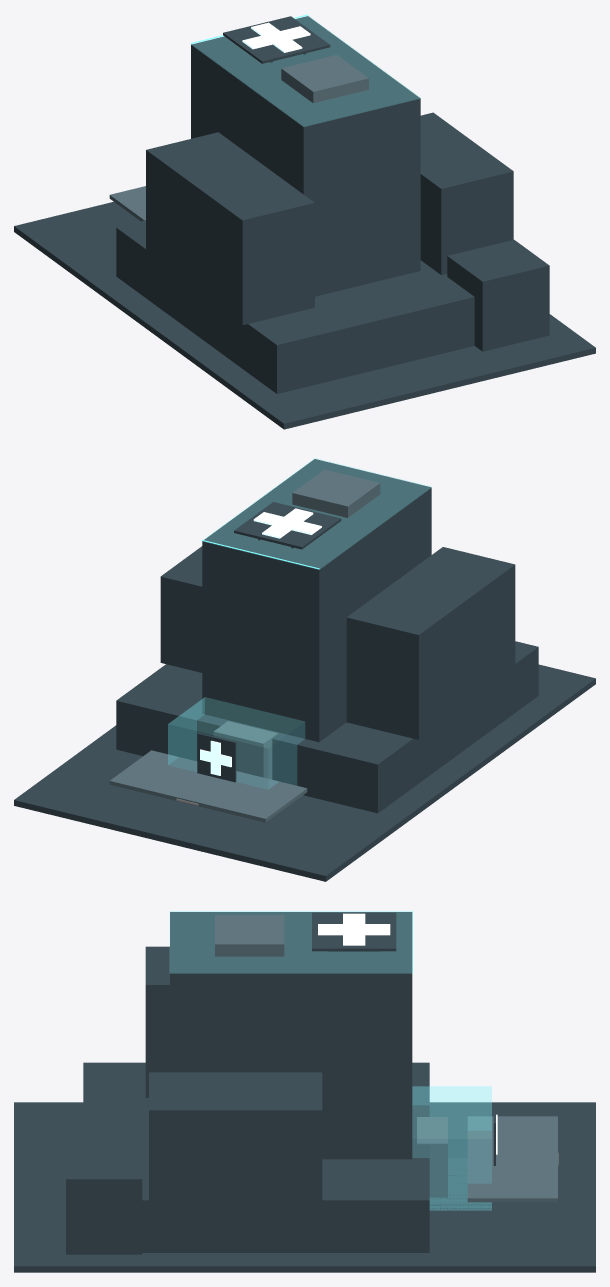
File: hospital.lod2.glb
3 renders of one model, top to bottom at view 1: azimuth 30°, elevation 25°; view 2: azimuth 150°, elevation 25°; view 3: azimuth 270°, elevation 25°, orthographic. The views are drawn at different scales.
Parts seen in each view (by area): view 1: hospital_graphite.002, hospital_glass.002, hospital_graphite_light.002, hospital_white.002; view 2: hospital_graphite.002, hospital_glass.002, hospital_graphite_light.002, hospital_white.002; view 3: hospital_graphite.002, hospital_glass.002, hospital_graphite_light.002, hospital_white.002.
Boxes of the visible parts, <box> form: hospital_graphite.002: <box>14,16,595,429</box>; hospital_glass.002: <box>191,15,420,126</box>; hospital_graphite_light.002: <box>109,55,368,221</box>; hospital_white.002: <box>242,22,310,52</box>; hospital_graphite.002: <box>14,459,595,881</box>; hospital_glass.002: <box>168,458,431,788</box>; hospital_graphite_light.002: <box>109,469,380,822</box>; hospital_white.002: <box>200,508,321,775</box>; hospital_graphite.002: <box>14,912,595,1272</box>; hospital_glass.002: <box>170,911,491,1210</box>; hospital_graphite_light.002: <box>215,915,557,1202</box>; hospital_white.002: <box>318,913,497,1154</box>.
Bounding box in the file's own units: 56 × 41.24 × 84.
